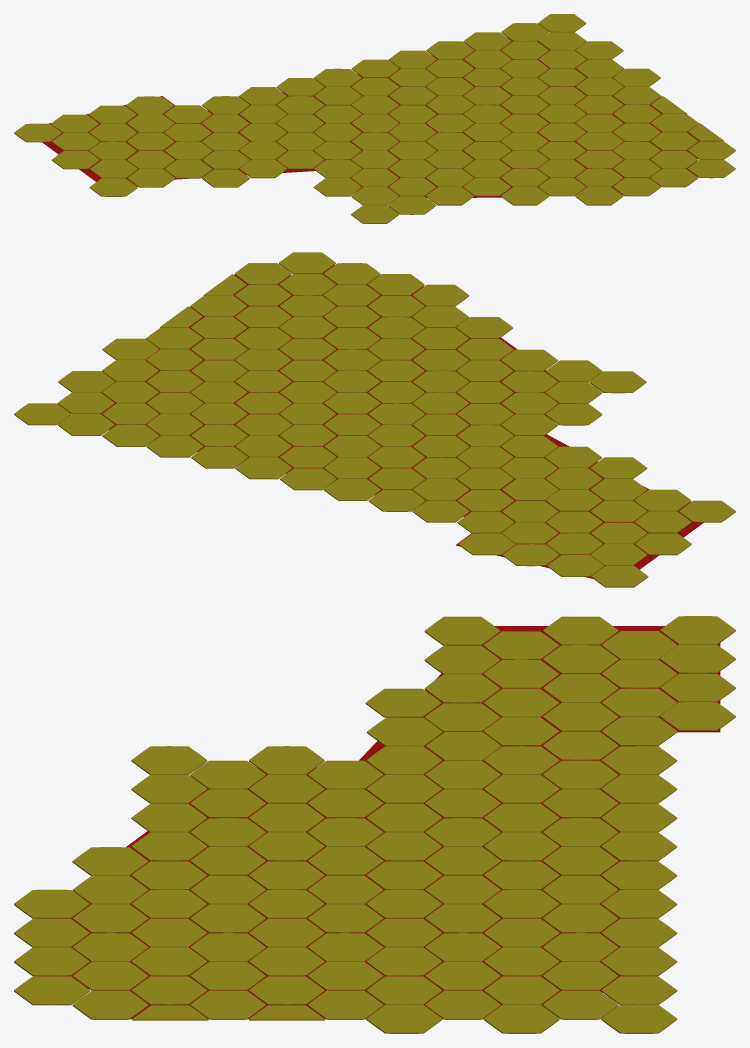
File: Test room 4e petite salle.FBX
3 views of the same model, one above another, from view 1: azimuth 30°, elevation 25°; view 2: azimuth 150°, elevation 25°; view 3: azimuth 270°, elevation 25° (orthographic). The views are drawn at different scales.
Parts seen in each view (by area): view 1: Circle001; view 2: Circle001; view 3: Circle001.
Boxes of the visible parts, bbox=[...] form: Circle001: bbox=[14, 14, 735, 223]; Circle001: bbox=[14, 252, 735, 587]; Circle001: bbox=[14, 616, 735, 1033].
Bounding box in the file's own units: 17736 × 26.17 × 12993.
